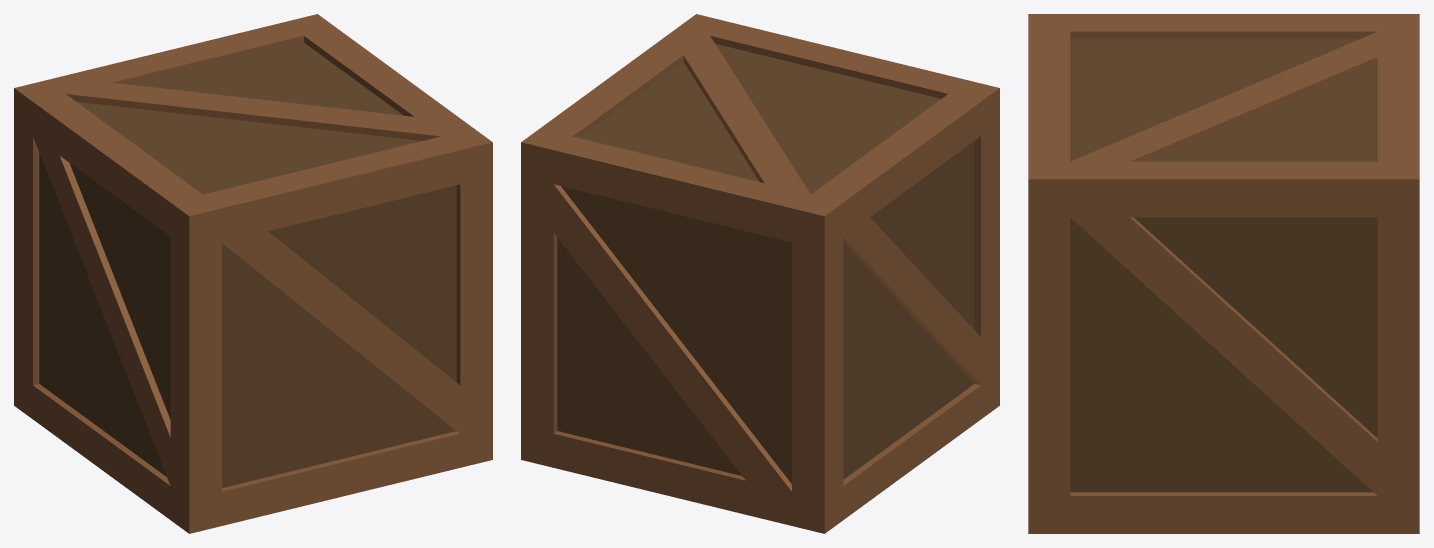
File: crate-box-traingle.glb
3 renders of one model, left to right at view 1: azimuth 30°, elevation 25°; view 2: azimuth 150°, elevation 25°; view 3: azimuth 270°, elevation 25°, orthographic. The views are drawn at different scales.
Parts seen in each view (by area): view 1: crate-box-traingle; view 2: crate-box-traingle; view 3: crate-box-traingle.
Part boxes in pixels (left/top/right/bottom): crate-box-traingle: left=14, top=14, right=492, bottom=533; crate-box-traingle: left=521, top=14, right=999, bottom=533; crate-box-traingle: left=1028, top=14, right=1419, bottom=533.
Size of the model in its own units: 1 by 1 by 1.
1 material, 1 textured.
